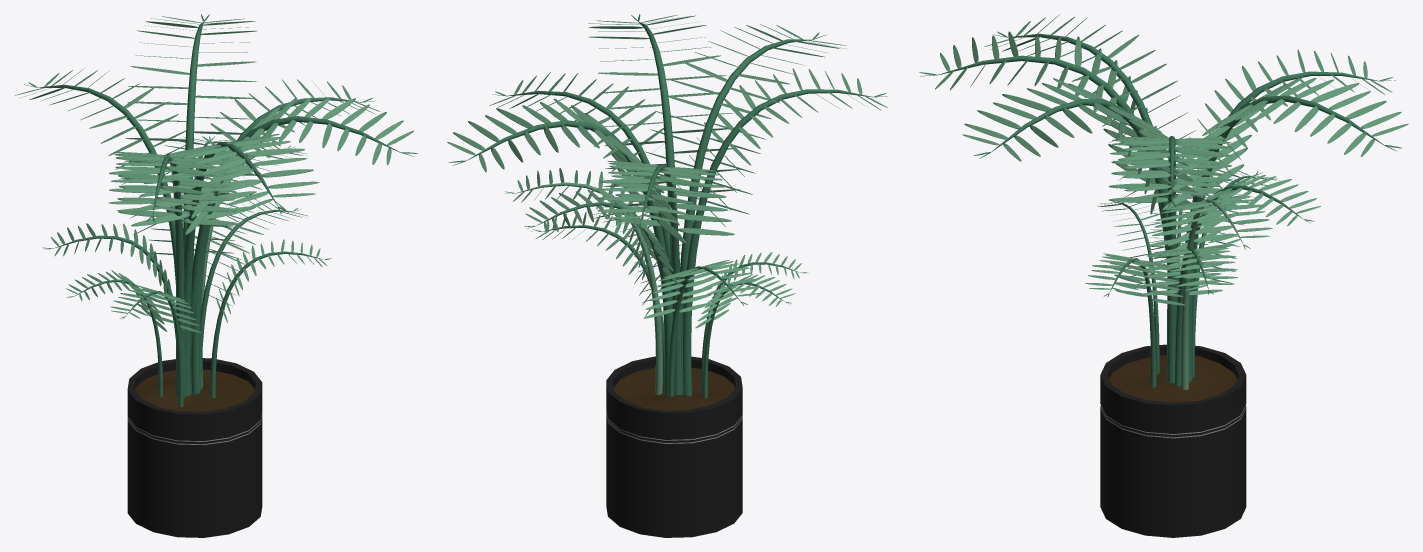
File: plants.fbx
3 renders of one model, left to right at view 1: azimuth 30°, elevation 25°; view 2: azimuth 150°, elevation 25°; view 3: azimuth 270°, elevation 25°, orthographic. The views are drawn at different scales.
Visible parts, largest first — view 1: NURBS 路径.008, 柱体; view 2: NURBS 路径.008, 柱体; view 3: NURBS 路径.008, 柱体.
Part boxes in pixels (x1=…): NURBS 路径.008: x1=14, y1=14, x2=418, y2=406; 柱体: x1=127, y1=358, x2=262, y2=537; NURBS 路径.008: x1=447, y1=14, x2=887, y2=397; 柱体: x1=606, y1=356, x2=742, y2=537; NURBS 路径.008: x1=919, y1=14, x2=1408, y2=390; 柱体: x1=1100, y1=344, x2=1246, y2=537.
Size of the model in its own units: 381 by 460 by 464.
